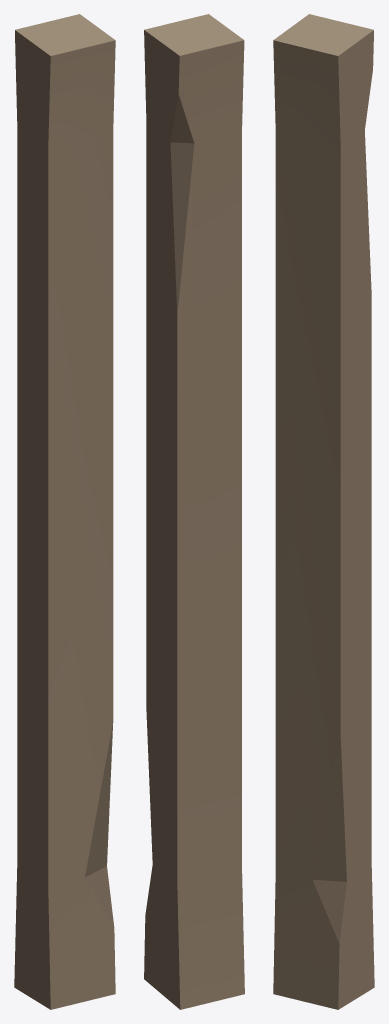
File: SM_Prop_Fence_Wood_Post_01.obj
3 views of the same model, side by side, from view 1: azimuth 30°, elevation 25°; view 2: azimuth 210°, elevation 25°; view 3: azimuth 330°, elevation 25° (orthographic).
Parts seen in each view (by area): view 1: SM_Prop_Fence_Wood_Post_01_0; view 2: SM_Prop_Fence_Wood_Post_01_0; view 3: SM_Prop_Fence_Wood_Post_01_0.
Part boxes in pixels (x1,y1,x2,y2): SM_Prop_Fence_Wood_Post_01_0: [14, 14, 115, 1009]; SM_Prop_Fence_Wood_Post_01_0: [144, 14, 244, 1009]; SM_Prop_Fence_Wood_Post_01_0: [273, 14, 374, 1009].
Bounding box in the file's own units: 0.144 × 2.03 × 0.1398.
1 material, 1 textured.
